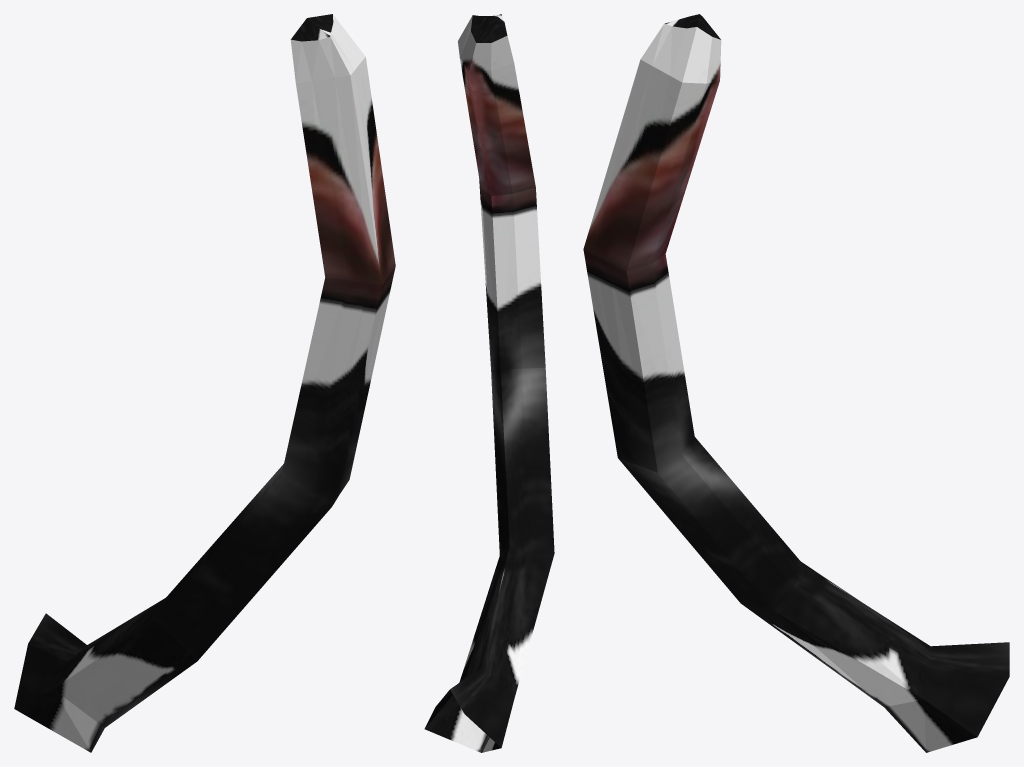
File: Cat_Tail.obj
The picture shows the model from 3 angles, left to right: view 1: azimuth 30°, elevation 25°; view 2: azimuth 150°, elevation 25°; view 3: azimuth 270°, elevation 25°; orthographic projection. The views are drawn at different scales.
Parts seen in each view (by area): view 1: Cat_Tail; view 2: Cat_Tail; view 3: Cat_Tail.
Boxes of the visible parts, x1,y1,x2,y2 form: Cat_Tail: [14, 14, 395, 752]; Cat_Tail: [424, 14, 554, 752]; Cat_Tail: [583, 14, 1009, 752].
Bounding box in the file's own units: 0.2466 × 0.9141 × 0.4479.
